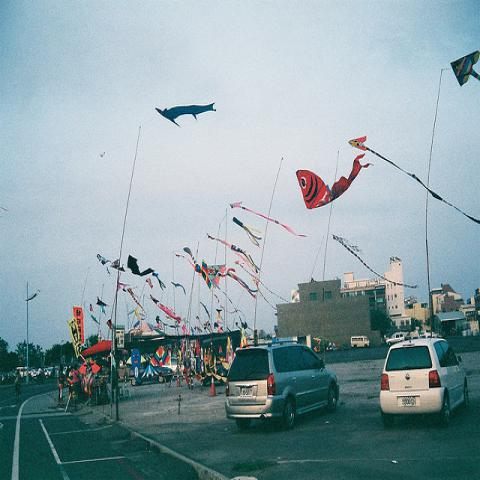bus: (350, 336, 370, 348)
car: (224, 340, 343, 427), (380, 337, 471, 426), (385, 332, 405, 346), (16, 366, 36, 378), (44, 368, 52, 378), (410, 332, 419, 339)
